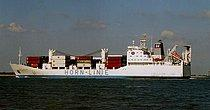Ship: (6, 32, 195, 85)
